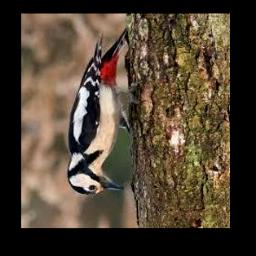Woodpecker: (68, 29, 144, 196)
